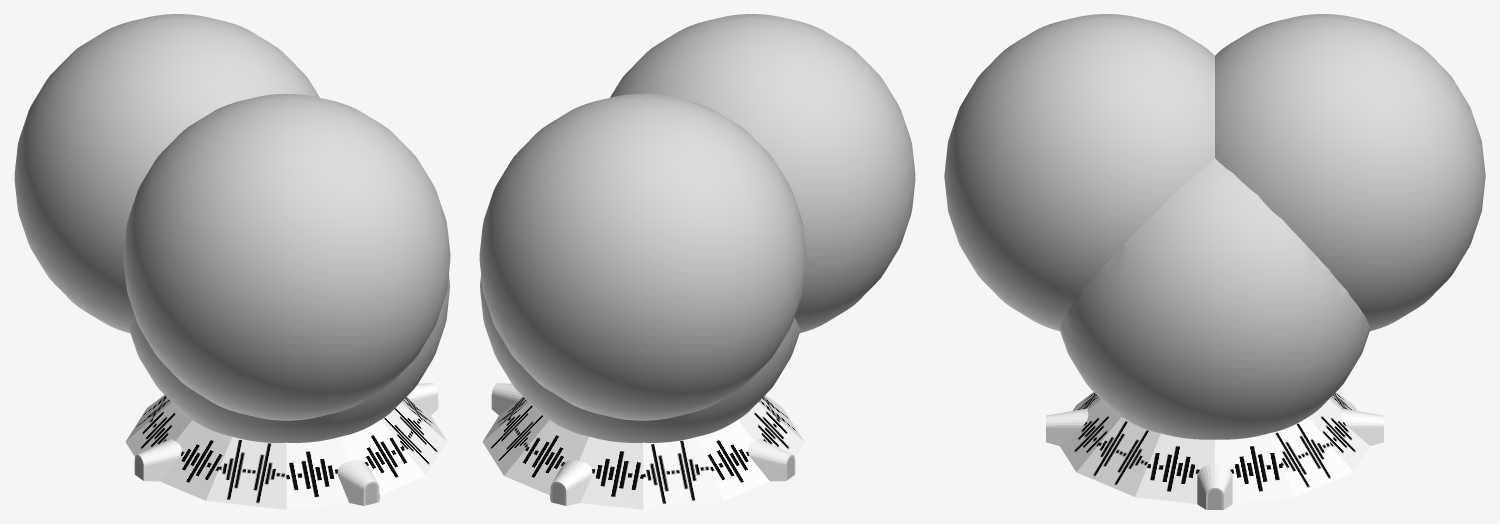
File: LiveDome.fbx
3 views of the same model, side by side, from view 1: azimuth 30°, elevation 25°; view 2: azimuth 150°, elevation 25°; view 3: azimuth 270°, elevation 25° (orthographic).
Visible parts, largest first — view 1: Differ2.001, Differ2, Foundation, OutDome; view 2: Differ2, Differ2.001, Foundation, OutDome; view 3: Differ2, Differ2.001, OutDome, Foundation.
Boxes of the visible parts, box(x1,y1,x2,y2) form: Differ2.001: box(123, 93, 450, 420); Differ2: box(14, 14, 319, 332); Foundation: box(125, 383, 447, 509); OutDome: box(129, 275, 449, 442); Differ2: box(479, 93, 806, 420); Differ2.001: box(610, 14, 915, 332); Foundation: box(482, 383, 804, 509); OutDome: box(480, 275, 800, 442); Differ2: box(1215, 14, 1485, 331); Differ2.001: box(944, 14, 1214, 331); OutDome: box(1059, 158, 1370, 439); Foundation: box(1046, 392, 1383, 509).
Size of the model in its own units: 2905 by 3125 by 4000.
Materials: 1 (1 with a texture image).
